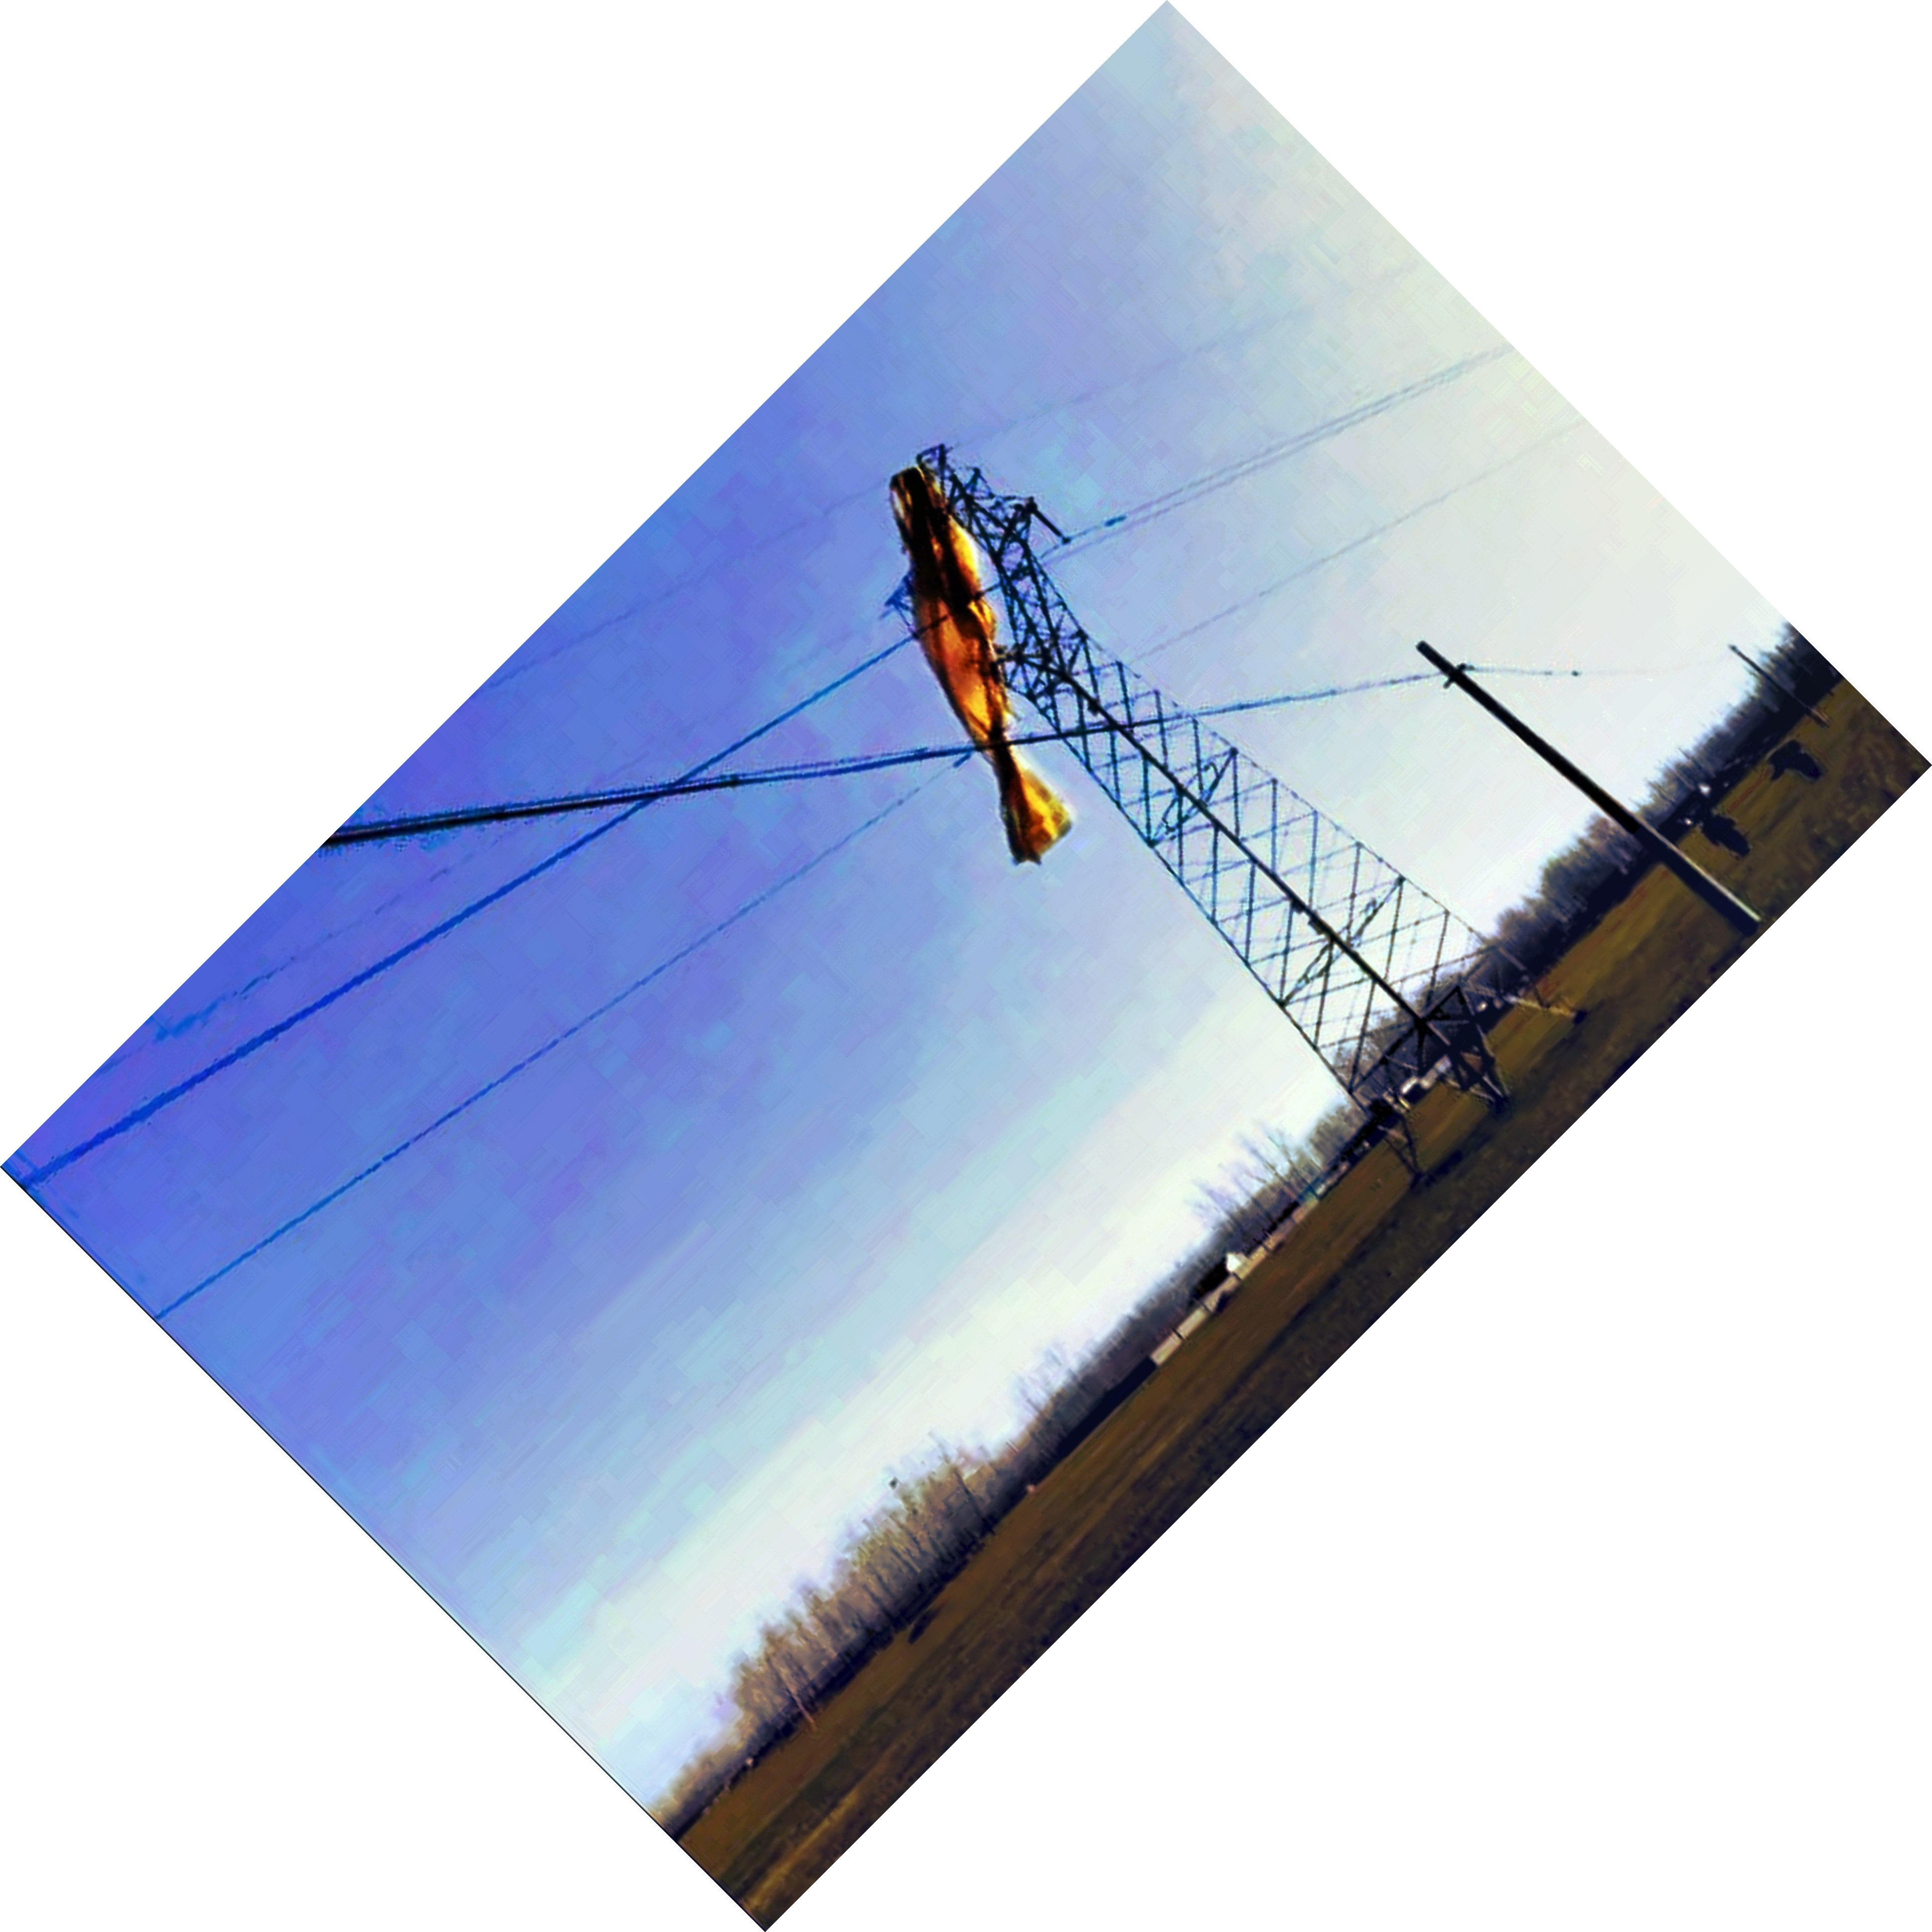wire foreign body: (878, 455, 1088, 874)
